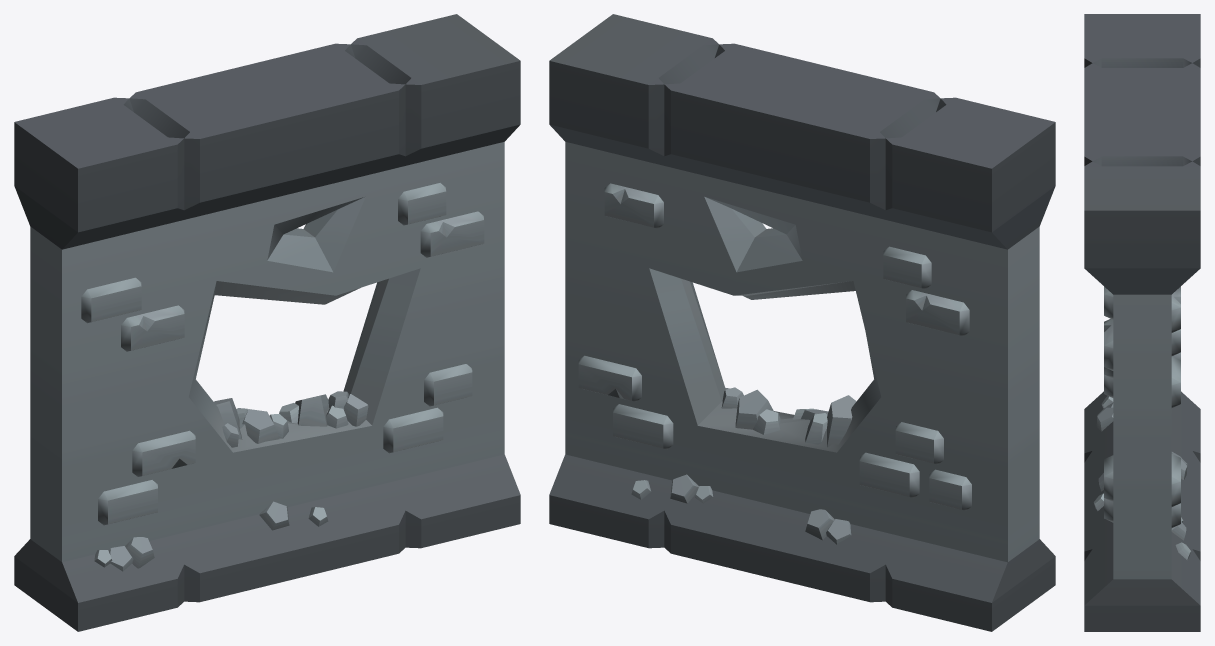
File: wall_broken.glb
3 renders of one model, left to right at view 1: azimuth 30°, elevation 25°; view 2: azimuth 150°, elevation 25°; view 3: azimuth 270°, elevation 25°, orthographic. The views are drawn at different scales.
Parts seen in each view (by area): view 1: wall_broken; view 2: wall_broken; view 3: wall_broken.
Part boxes in pixels (x1,y1,x2,y2): wall_broken: (14, 14, 520, 631); wall_broken: (549, 14, 1055, 631); wall_broken: (1084, 14, 1200, 631).
Bounding box in the file's own units: 4 × 4 × 1.
1 material, 1 textured.
